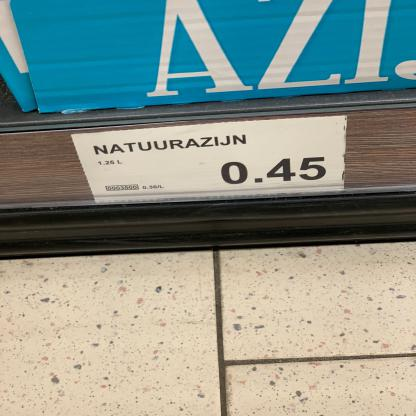prtg: (72, 117, 349, 205)
